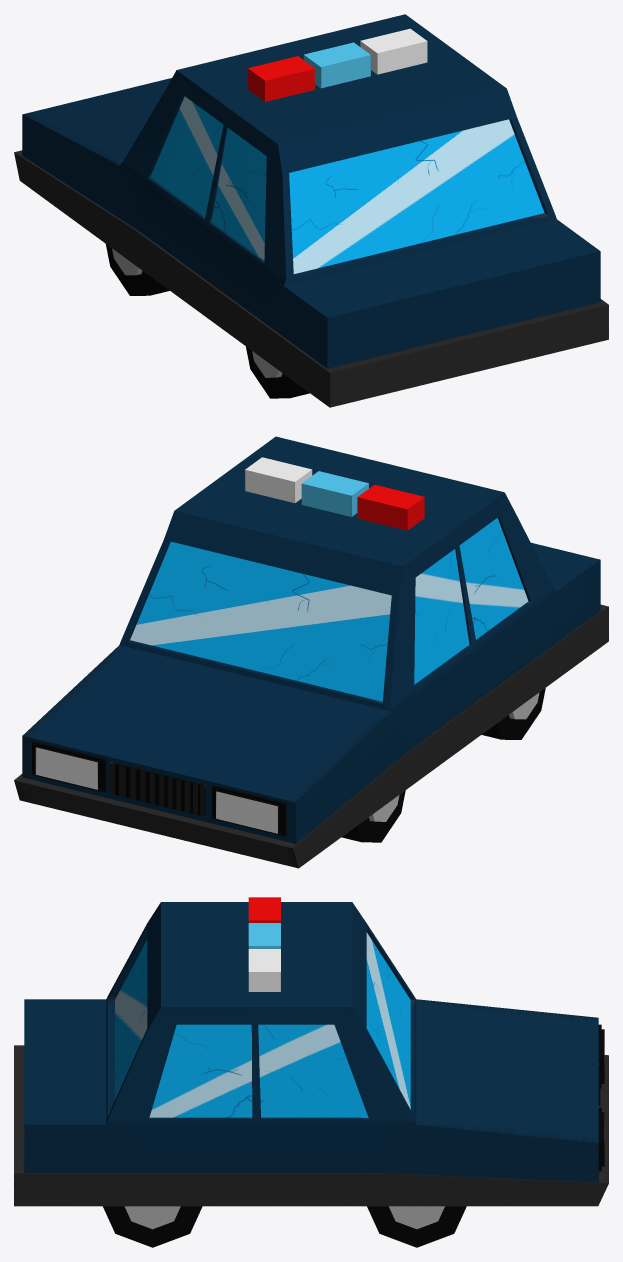
File: police.fbx
3 renders of one model, top to bottom at view 1: azimuth 30°, elevation 25°; view 2: azimuth 150°, elevation 25°; view 3: azimuth 270°, elevation 25°, orthographic. The views are drawn at different scales.
Parts seen in each view (by area): view 1: pCube17; view 2: pCube17; view 3: pCube17.
Boxes of the visible parts, bbox=[...] form: pCube17: bbox=[14, 14, 608, 407]; pCube17: bbox=[14, 436, 608, 868]; pCube17: bbox=[14, 897, 608, 1247].
Size of the model in its own units: 5.38 by 4.96 by 10.54.
Materials: 1 (1 with a texture image).
